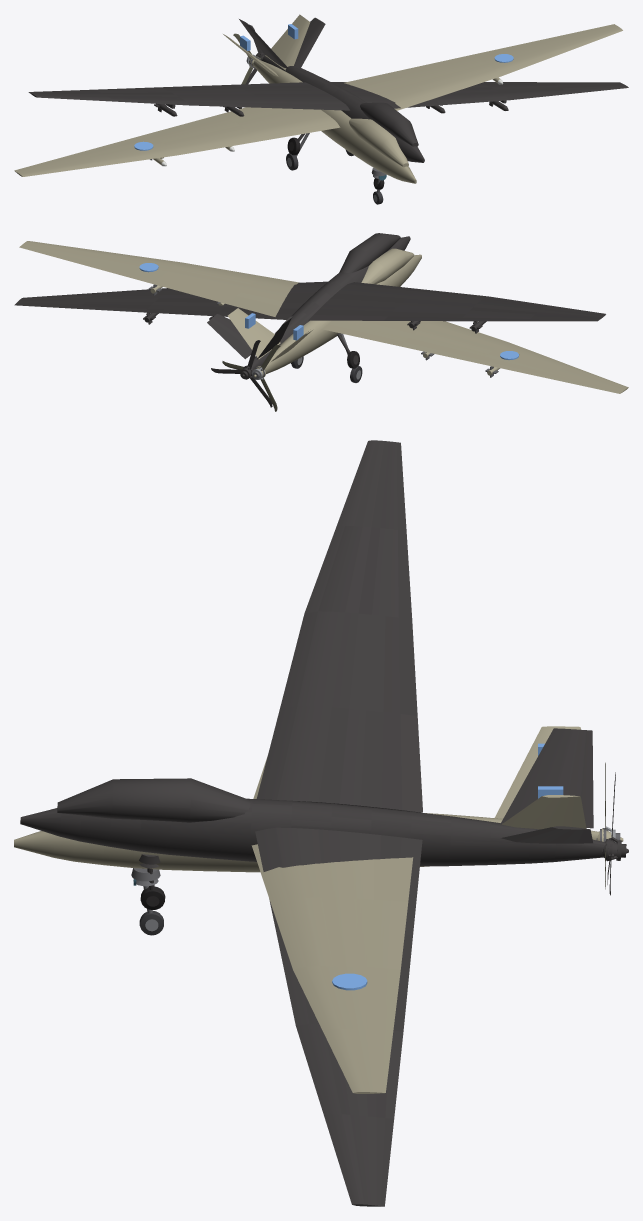
File: drone__ch_4b_anka.glb
3 renders of one model, top to bottom at view 1: azimuth 30°, elevation 25°; view 2: azimuth 150°, elevation 25°; view 3: azimuth 270°, elevation 25°, orthographic. The views are drawn at different scales.
Parts seen in each view (by area): view 1: Fuselage_Mesh, Wreck; view 2: Fuselage_Mesh, Wreck, Propeller_Mesh; view 3: Wreck, Fuselage_Mesh.
Part boxes in pixels (x1,y1,x2,y2): Fuselage_Mesh: (14,14,622,204); Wreck: (28,17,628,189); Fuselage_Mesh: (19,241,628,393); Wreck: (14,233,605,407); Propeller_Mesh: (222,345,280,411); Wreck: (20,440,628,1206); Fuselage_Mesh: (14,726,599,1093).
Size of what is drawn, in the model's own units: 18.16 by 3.79 by 8.72.
